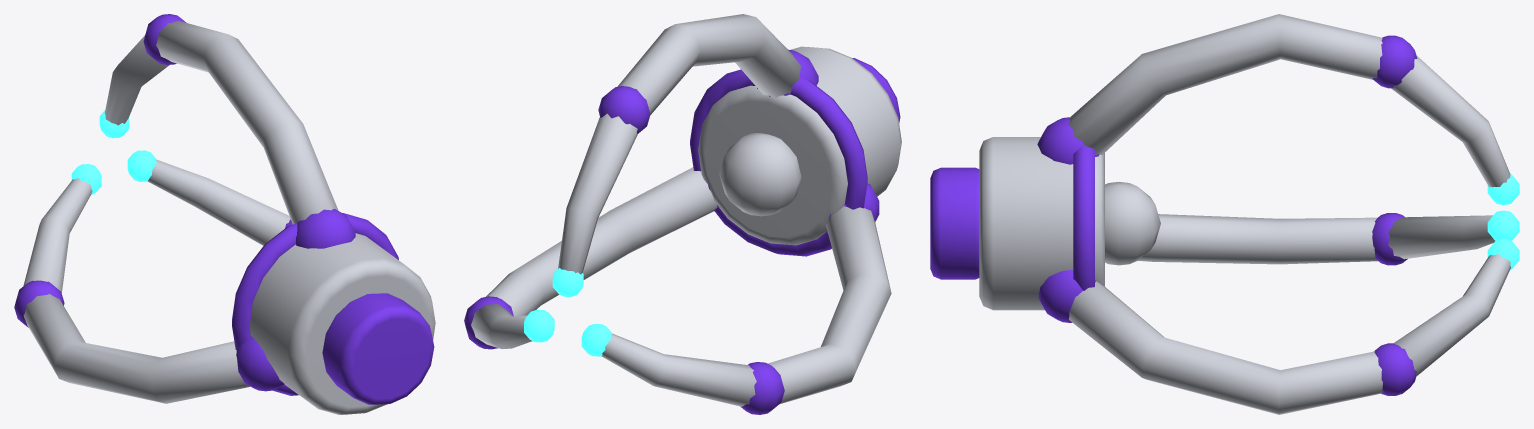
Rendered from claw_grabber_claw.glb.
3 views of the same model, side by side, from view 1: azimuth 30°, elevation 25°; view 2: azimuth 150°, elevation 25°; view 3: azimuth 270°, elevation 25° (orthographic). The views are drawn at different scales.
Parts seen in each view (by area): view 1: Claw, Prong1, Prong0, Prong2; view 2: Claw, Prong1, Prong0, Prong2; view 3: Claw, Prong0, Prong2, Prong1.
Boxes of the visible parts, x1=… form: Claw: x1=232, y1=213, x2=435, y2=414; Prong1: x1=14, y1=164, x2=284, y2=403; Prong0: x1=99, y1=14, x2=355, y2=248; Prong2: x1=127, y1=150, x2=292, y2=245; Claw: x1=690, y1=46, x2=901, y2=256; Prong1: x1=581, y1=183, x2=891, y2=414; Prong0: x1=552, y1=14, x2=818, y2=296; Prong2: x1=464, y1=167, x2=718, y2=349; Claw: x1=930, y1=137, x2=1160, y2=310; Prong0: x1=1037, y1=14, x2=1519, y2=205; Prong2: x1=1038, y1=238, x2=1519, y2=414; Prong1: x1=1138, y1=210, x2=1519, y2=265.
Size of the model in its own units: 0.2419 by 0.2122 by 0.354.
